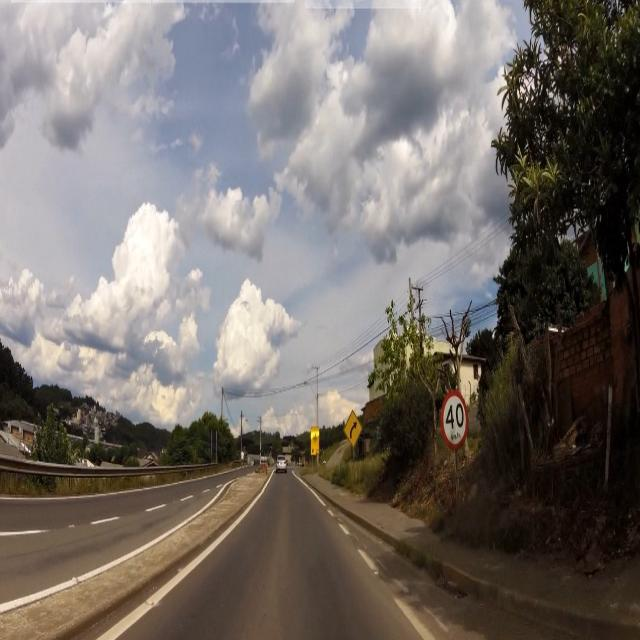A-2b: (344, 404, 363, 451)
R-19: (441, 384, 475, 453)
